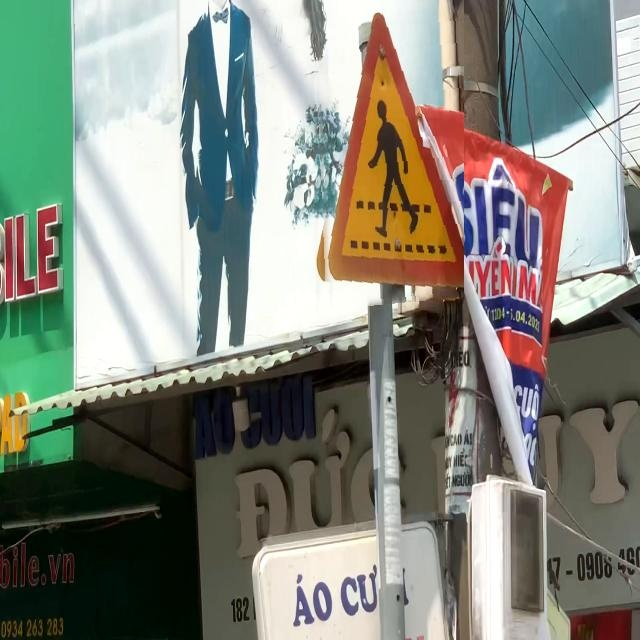bien_nguy_hiem: (313, 0, 464, 310)
